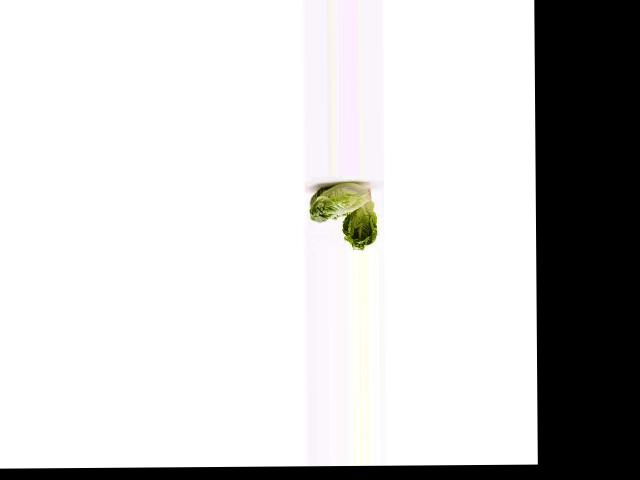lettuce: (305, 179, 375, 226)
